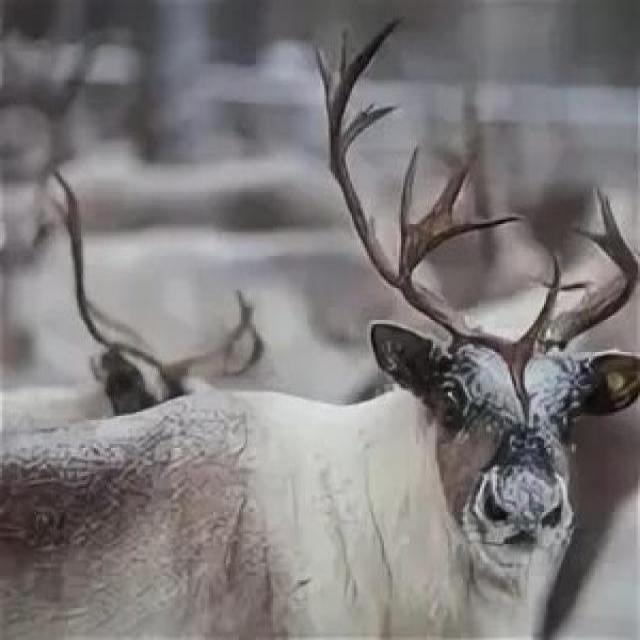deer: (59, 157, 640, 640)
